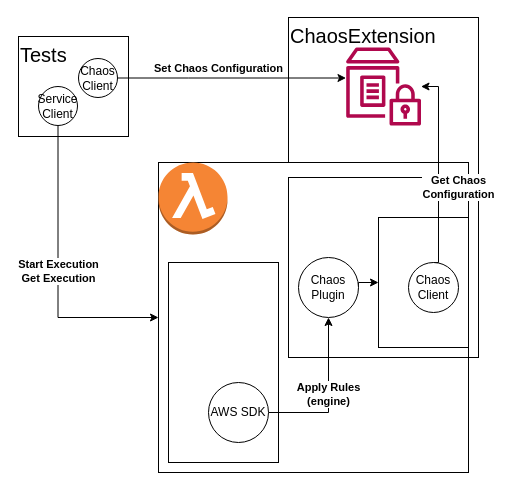
Image size: 511x490. Some labels were removed from this diagram. Here are the shapes that lost their labels. From the top down, the box of each, then its label:
(346, 47, 420, 125): SSM Parameter
(288, 176, 468, 358): Chaos Layer
(378, 216, 468, 348): Chaos Extension
(168, 262, 278, 462): Runtime Code (Orchestrator/Activity Worker)
